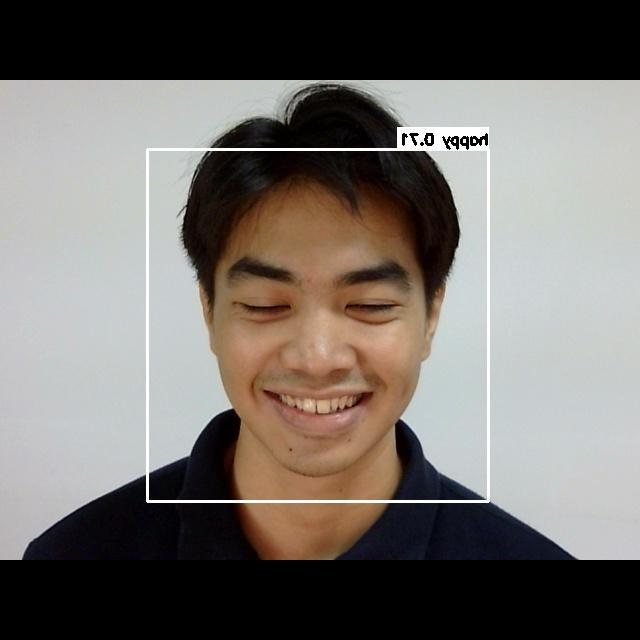Happy: (205, 219, 437, 447)
